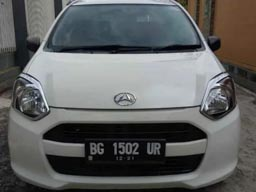plat: (85, 140, 165, 155)
